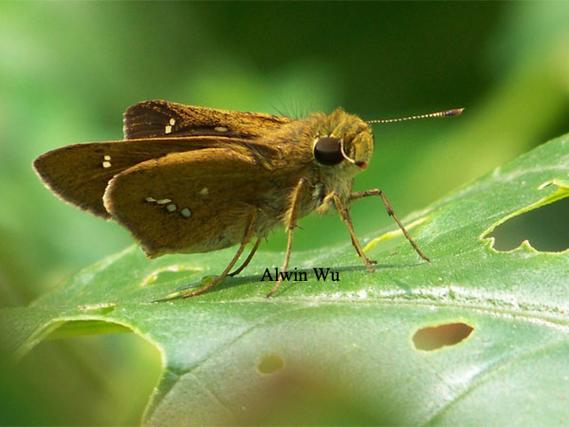Hesperiidae: (33, 93, 474, 299)
